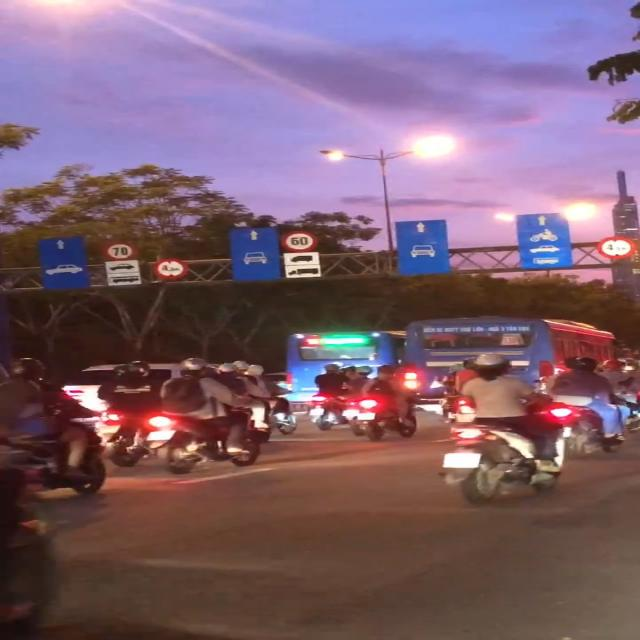Bien bao toc do toi da cho phep: (272, 226, 326, 254), (99, 240, 141, 262)
